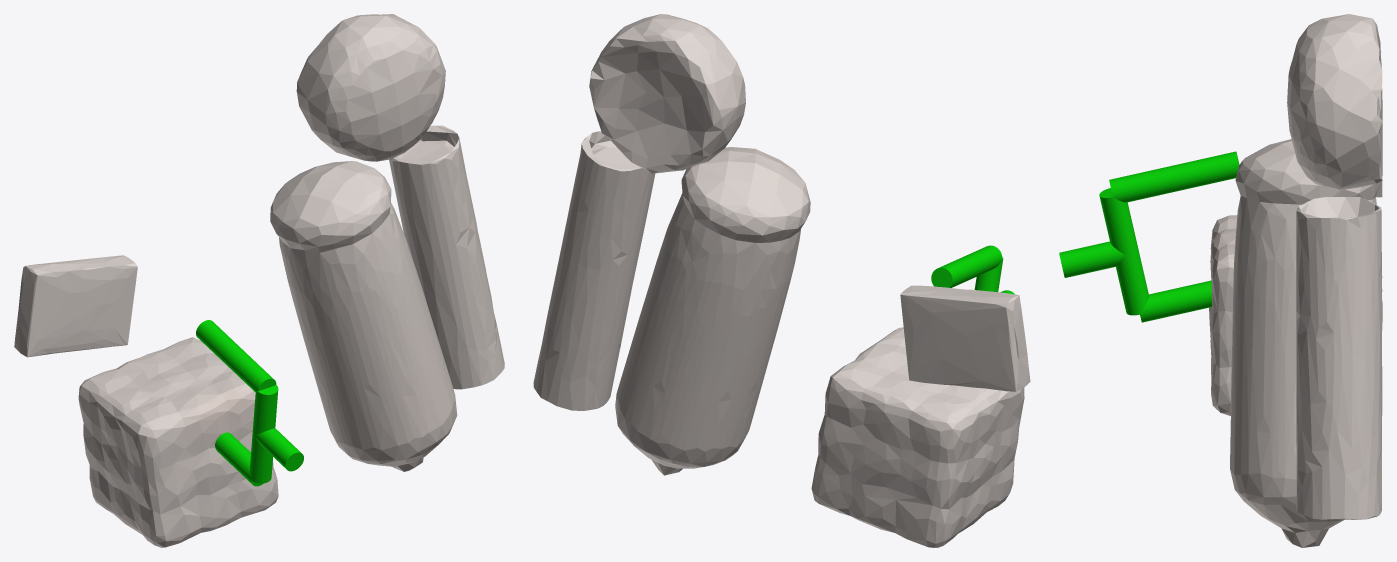
File: round_000_trial_001.obj
3 renders of one model, left to right at view 1: azimuth 30°, elevation 25°; view 2: azimuth 150°, elevation 25°; view 3: azimuth 270°, elevation 25°, orthographic. The views are drawn at different scales.
Visible parts, largest first — view 1: geometry_0, geometry_1; view 2: geometry_0, geometry_1; view 3: geometry_0, geometry_1.
Part boxes in pixels (bbox=[...]): geometry_0: bbox=[14, 14, 504, 547]; geometry_1: bbox=[196, 320, 303, 486]; geometry_0: bbox=[533, 14, 1030, 547]; geometry_1: bbox=[931, 245, 1014, 294]; geometry_0: bbox=[1209, 14, 1382, 547]; geometry_1: bbox=[1059, 151, 1239, 322].
Size of the model in its own units: 0.2424 by 0.2177 by 0.1242.
